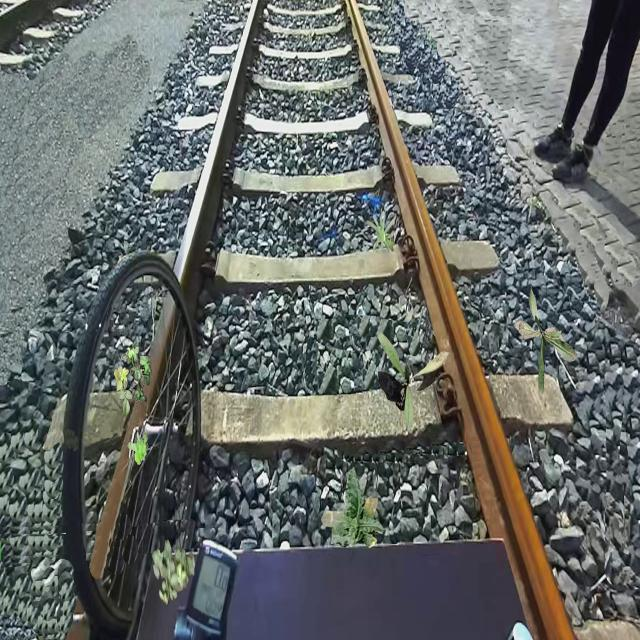Plant: (378, 332, 450, 432), (514, 284, 578, 396), (321, 465, 384, 548), (152, 539, 196, 606), (114, 343, 152, 416), (364, 207, 396, 253), (128, 432, 148, 465)
